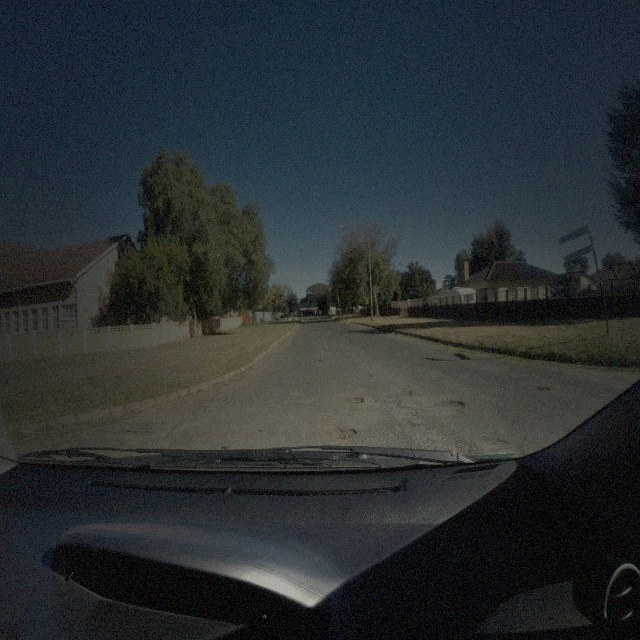pothole: (388, 402, 418, 423), (332, 427, 358, 441), (440, 396, 466, 410), (346, 394, 364, 406), (534, 382, 550, 393)
